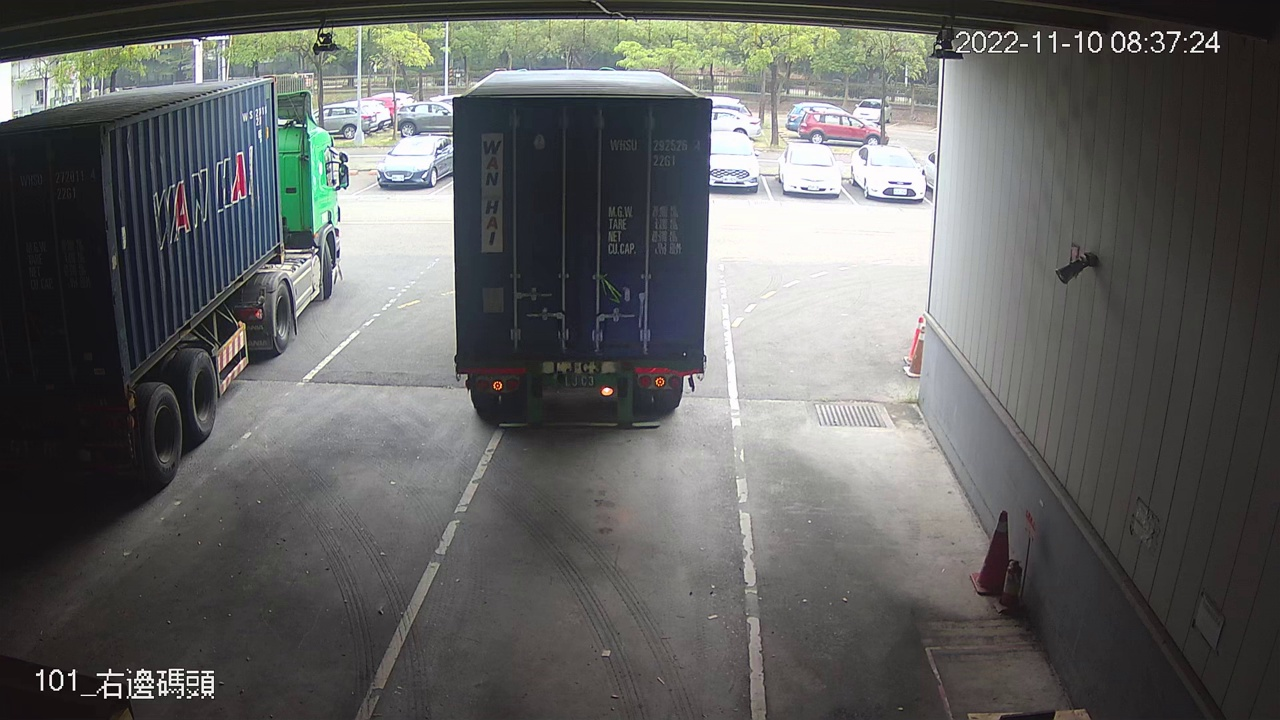container: (604, 132, 706, 173)
